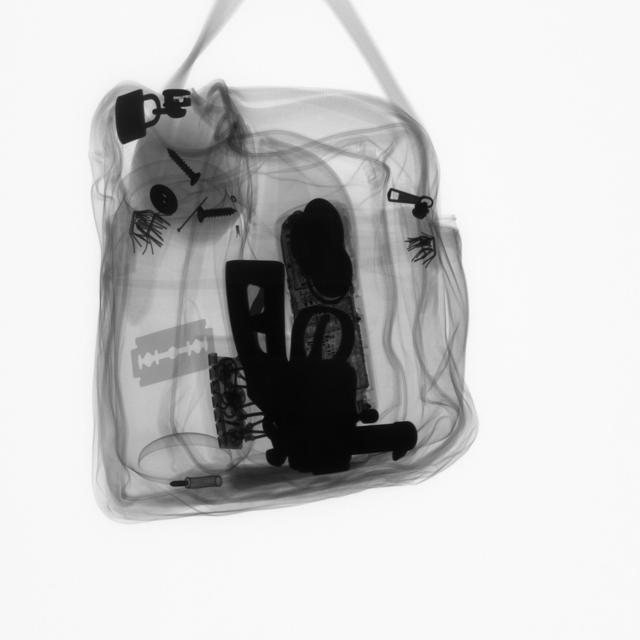gun: (222, 253, 420, 461)
razor: (127, 319, 222, 384)
snail: (167, 143, 203, 190), (194, 203, 243, 228)
